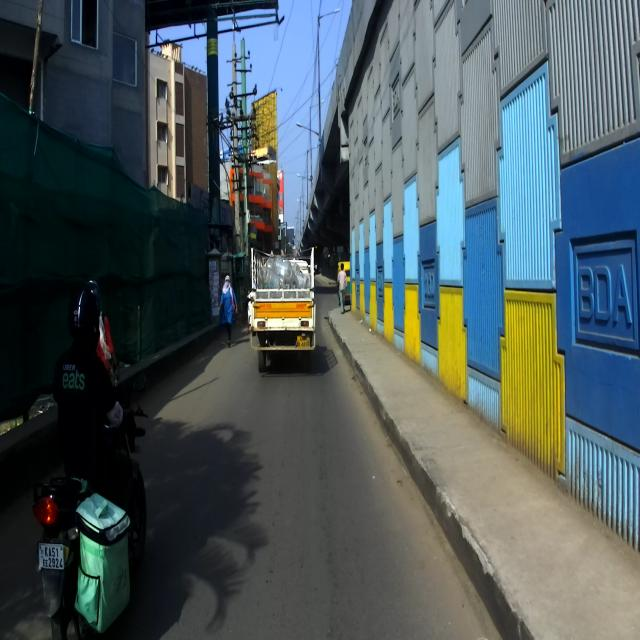motorcycle ahead at: (34, 462, 150, 631)
truck ahead at: (245, 238, 320, 372)
